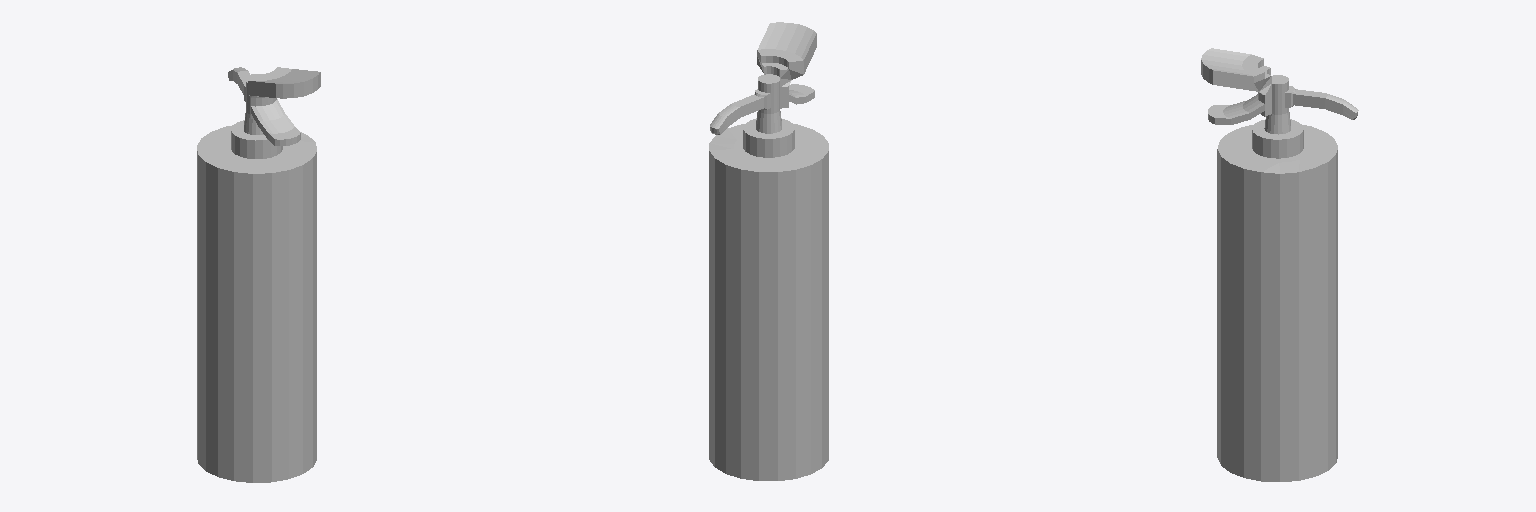
File: extintor.obj
The picture shows the model from 3 angles: view 1: azimuth 30°, elevation 25°; view 2: azimuth 150°, elevation 25°; view 3: azimuth 270°, elevation 25°; orthographic projection.
Visible parts, largest first — view 1: pCylinder1 extintor5 Escena_FInal; view 2: pCylinder1 extintor5 Escena_FInal; view 3: pCylinder1 extintor5 Escena_FInal.
Part boxes in pixels (left/top/right/bottom): pCylinder1 extintor5 Escena_FInal: left=197, top=67, right=320, bottom=482; pCylinder1 extintor5 Escena_FInal: left=709, top=22, right=828, bottom=480; pCylinder1 extintor5 Escena_FInal: left=1201, top=48, right=1358, bottom=481.
Bounding box in the file's own units: 0.2966 × 1.09 × 0.3865.